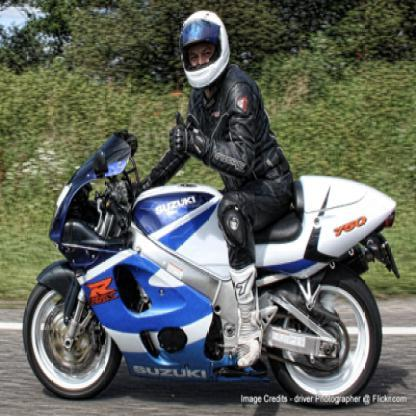With Helmet: (176, 10, 235, 93)
